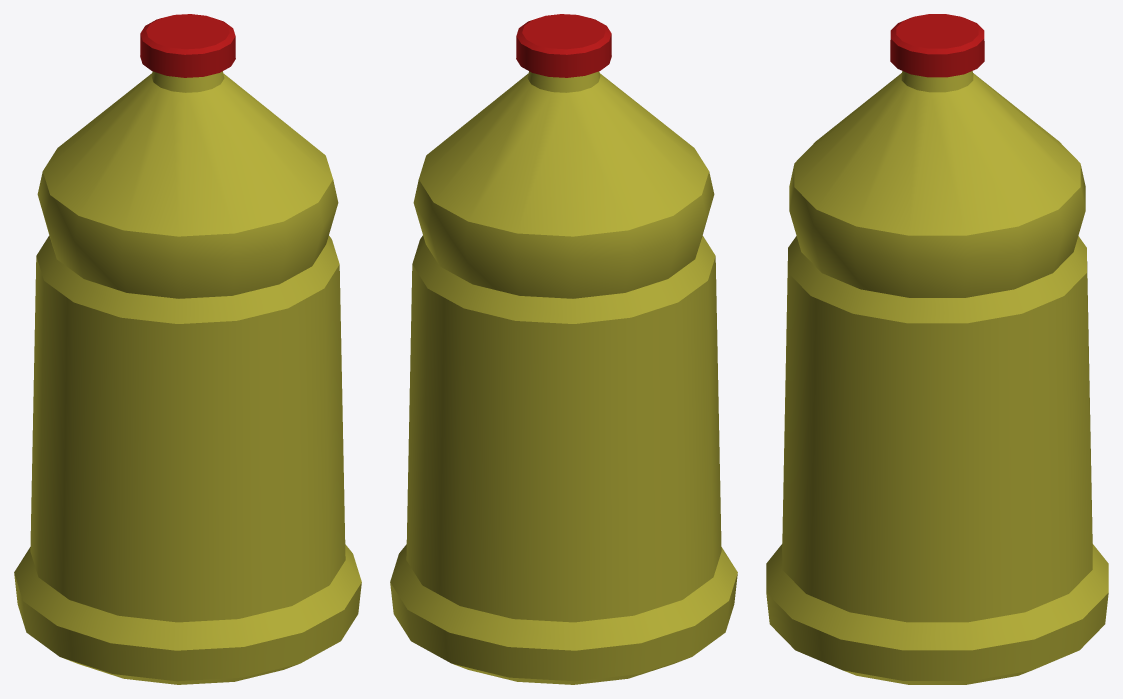
The model's file is Botella_09.fbx.
3 views of the same model, side by side, from view 1: azimuth 30°, elevation 25°; view 2: azimuth 150°, elevation 25°; view 3: azimuth 270°, elevation 25° (orthographic).
Visible parts, largest first — view 1: Botella_09; view 2: Botella_09; view 3: Botella_09.
Boxes of the visible parts, <box> form: Botella_09: <box>14,14,361,684</box>; Botella_09: <box>390,14,737,684</box>; Botella_09: <box>766,14,1108,684</box>.
Size of the model in its own units: 40.68 by 77.74 by 40.68.
